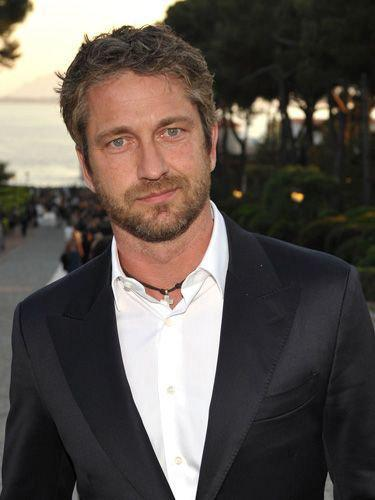Sober: (80, 88, 207, 232)
